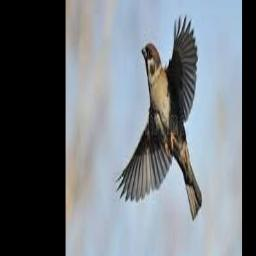Sparrow: (115, 13, 201, 221)
